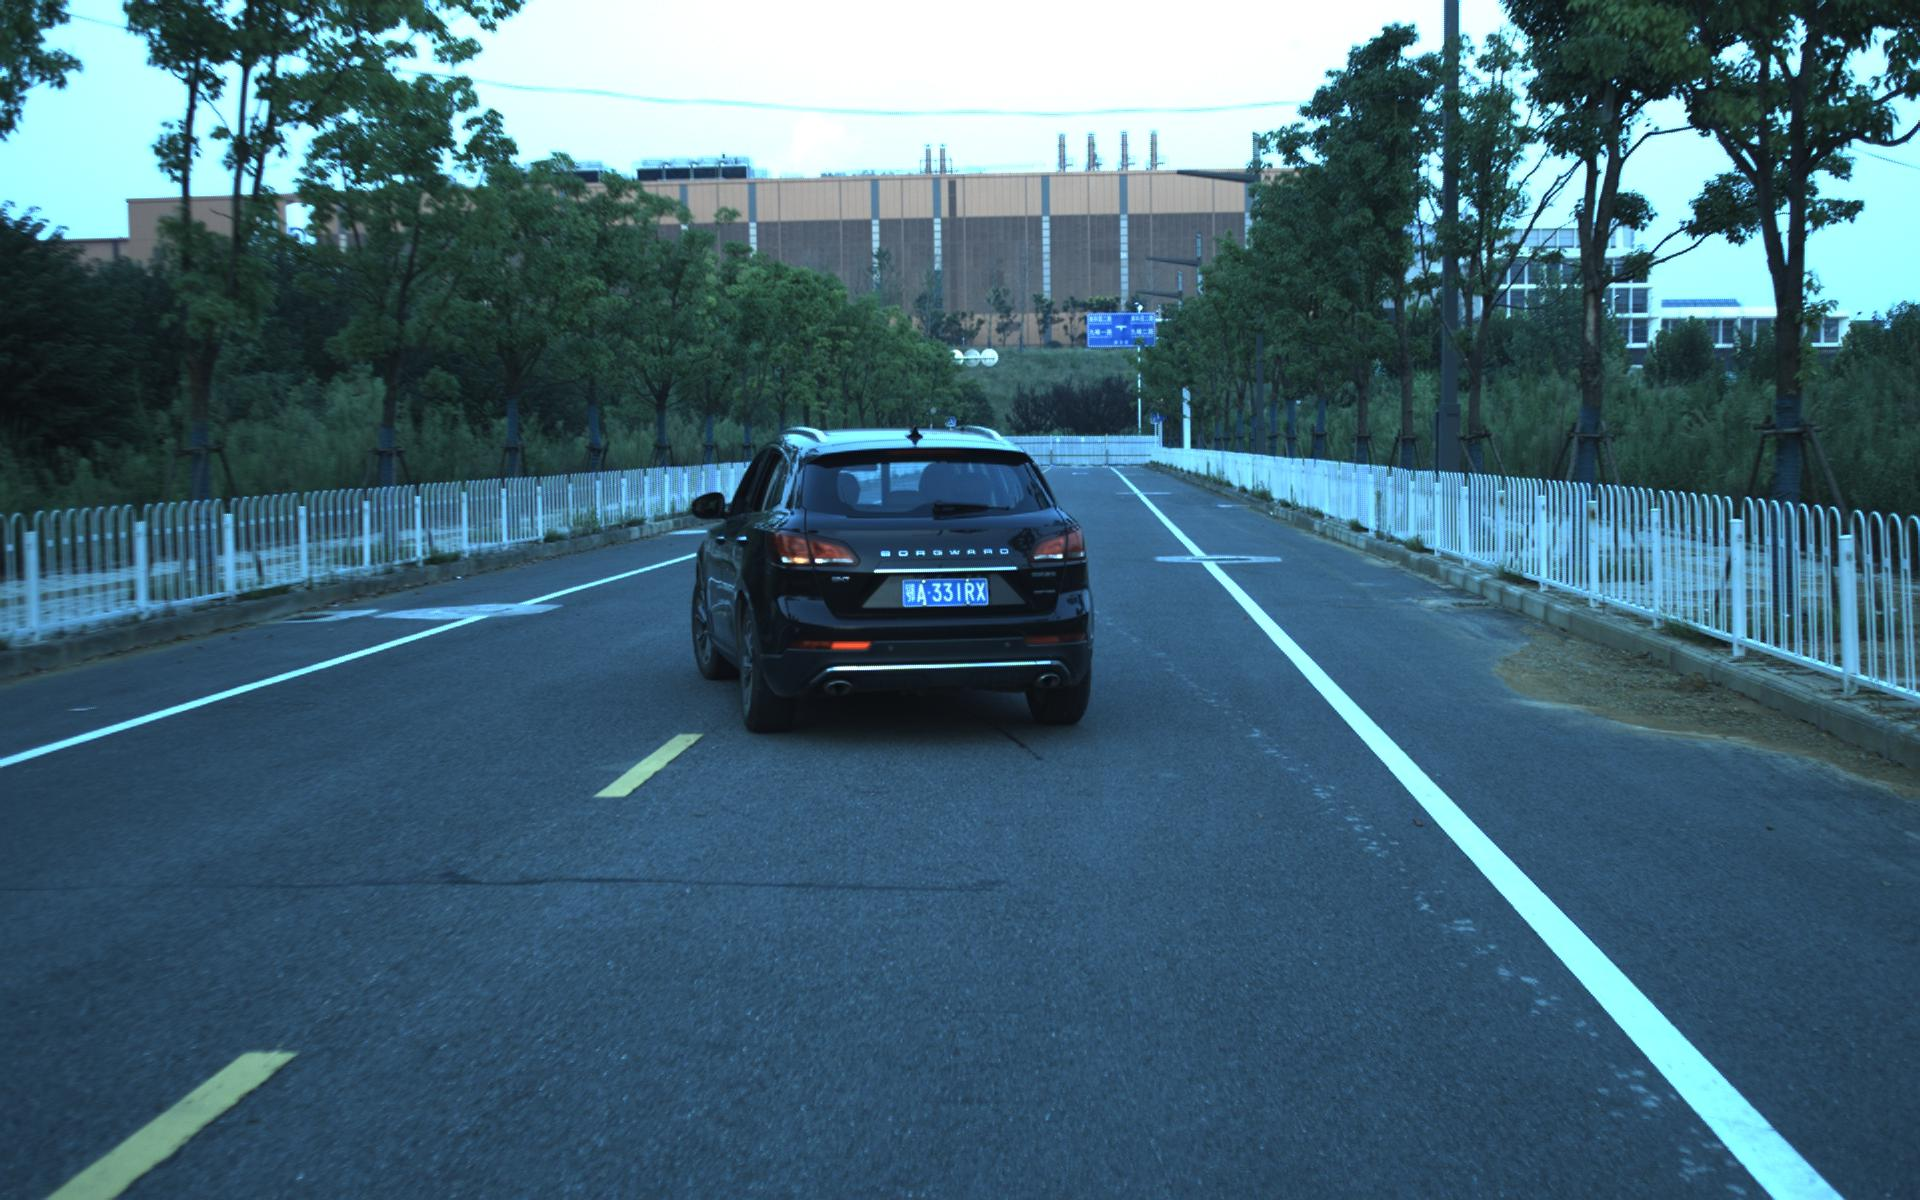Car: (681, 415, 1102, 748)
